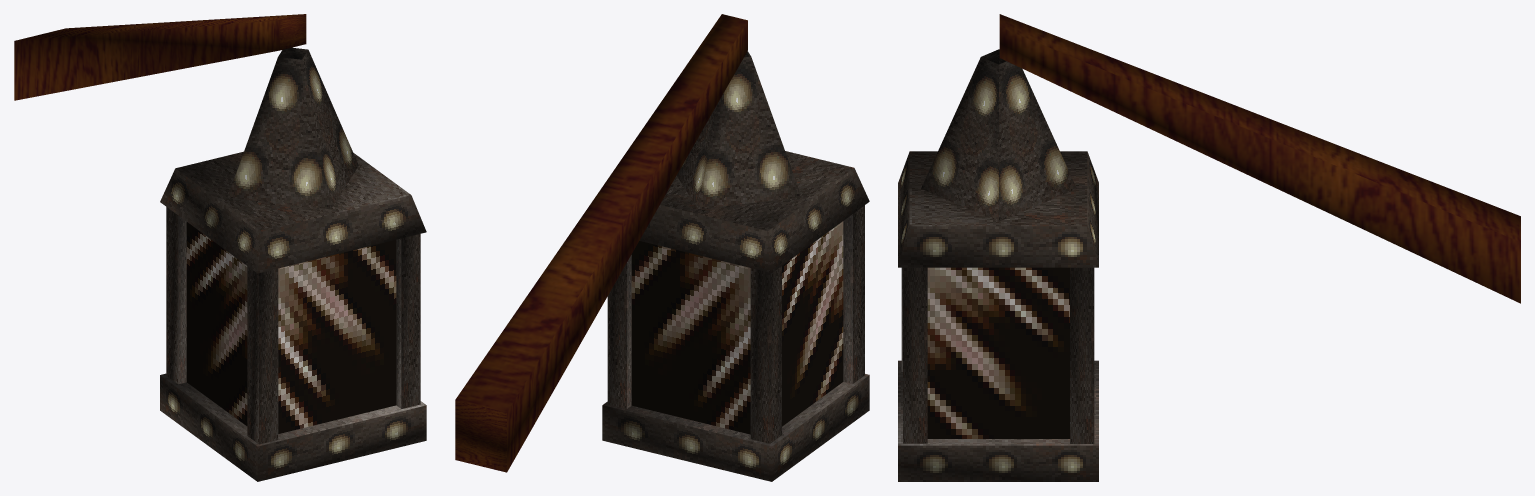
The model's file is LANTERN1_ACTORDEF.fbx.
3 views of the same model, side by side, from view 1: azimuth 30°, elevation 25°; view 2: azimuth 150°, elevation 25°; view 3: azimuth 270°, elevation 25° (orthographic). The views are drawn at different scales.
Visible parts, largest first — view 1: U3DMesh; view 2: U3DMesh; view 3: U3DMesh.
Boxes of the visible parts, x1=… form: U3DMesh: x1=14, y1=14, x2=426, y2=481; U3DMesh: x1=455, y1=14, x2=869, y2=481; U3DMesh: x1=898, y1=14, x2=1520, y2=481.
Bounding box in the file's own units: 1.47 × 3.38 × 4.55.
